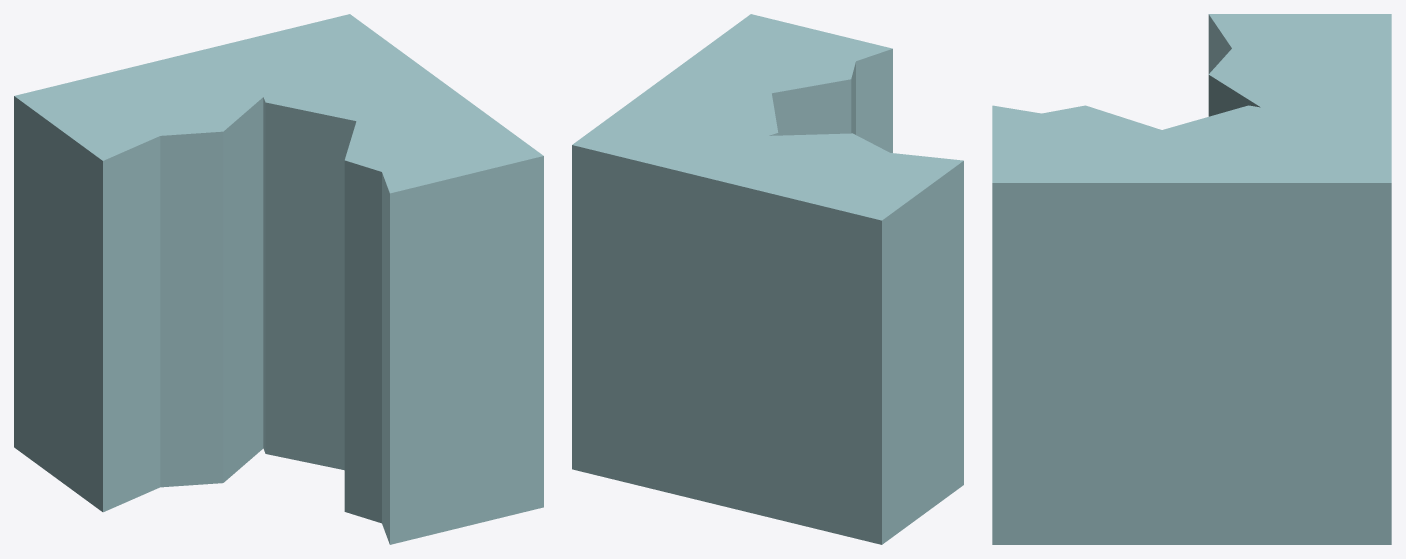
The model's file is cliffGrey_cornerInnerMid.fbx.
The picture shows the model from 3 angles, left to right: view 1: azimuth 30°, elevation 25°; view 2: azimuth 150°, elevation 25°; view 3: azimuth 270°, elevation 25°; orthographic projection. The views are drawn at different scales.
Visible parts, largest first — view 1: cliffGrey_cornerInnerMid; view 2: cliffGrey_cornerInnerMid; view 3: cliffGrey_cornerInnerMid.
Part boxes in pixels (<box>): cliffGrey_cornerInnerMid: <box>14,14,543,544</box>; cliffGrey_cornerInnerMid: <box>572,14,963,544</box>; cliffGrey_cornerInnerMid: <box>992,14,1391,544</box>.
Bounding box in the file's own units: 10 × 10 × 10.
